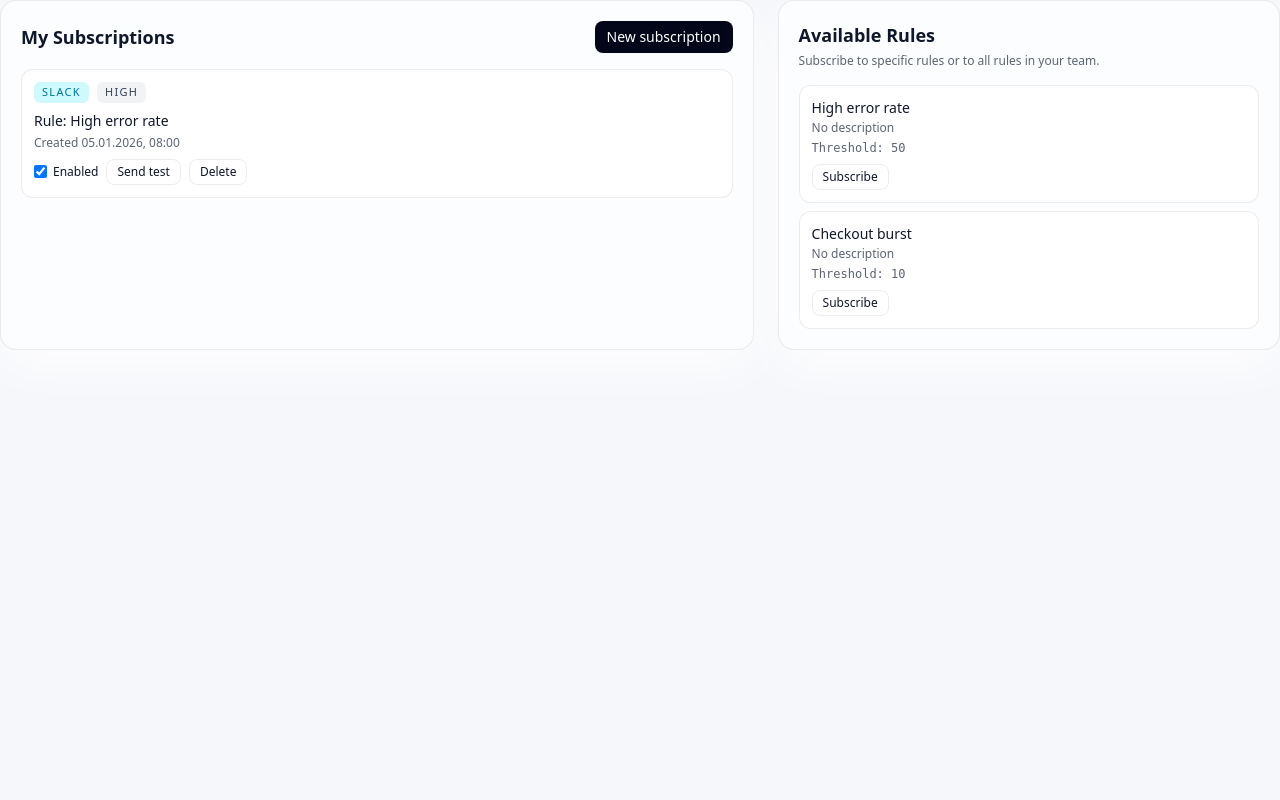
it: delete › keeps the row and shows the API message when the delete is refused
Click the button with aria-label "Delete SLACK subscription" at (218, 172), box [189, 158, 247, 184]
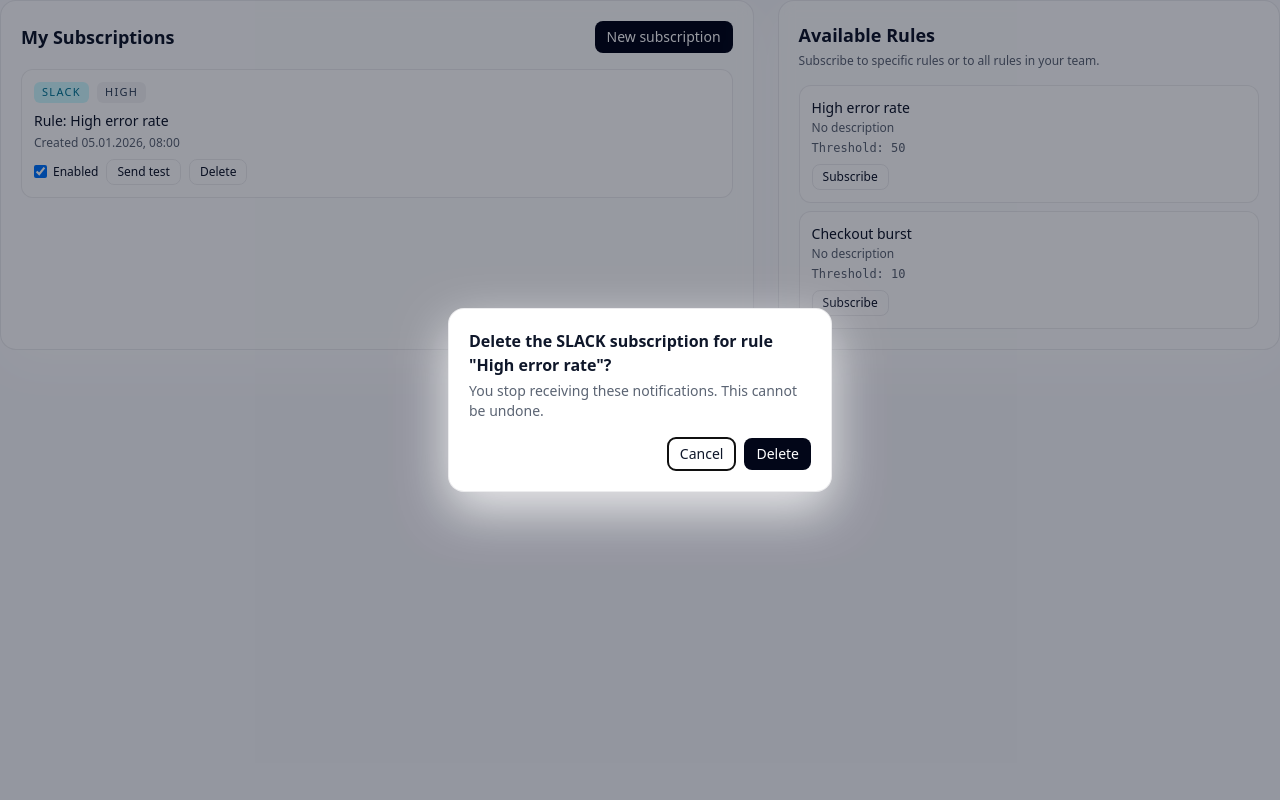
Click the button "Delete" at (778, 454), box [744, 438, 811, 470]
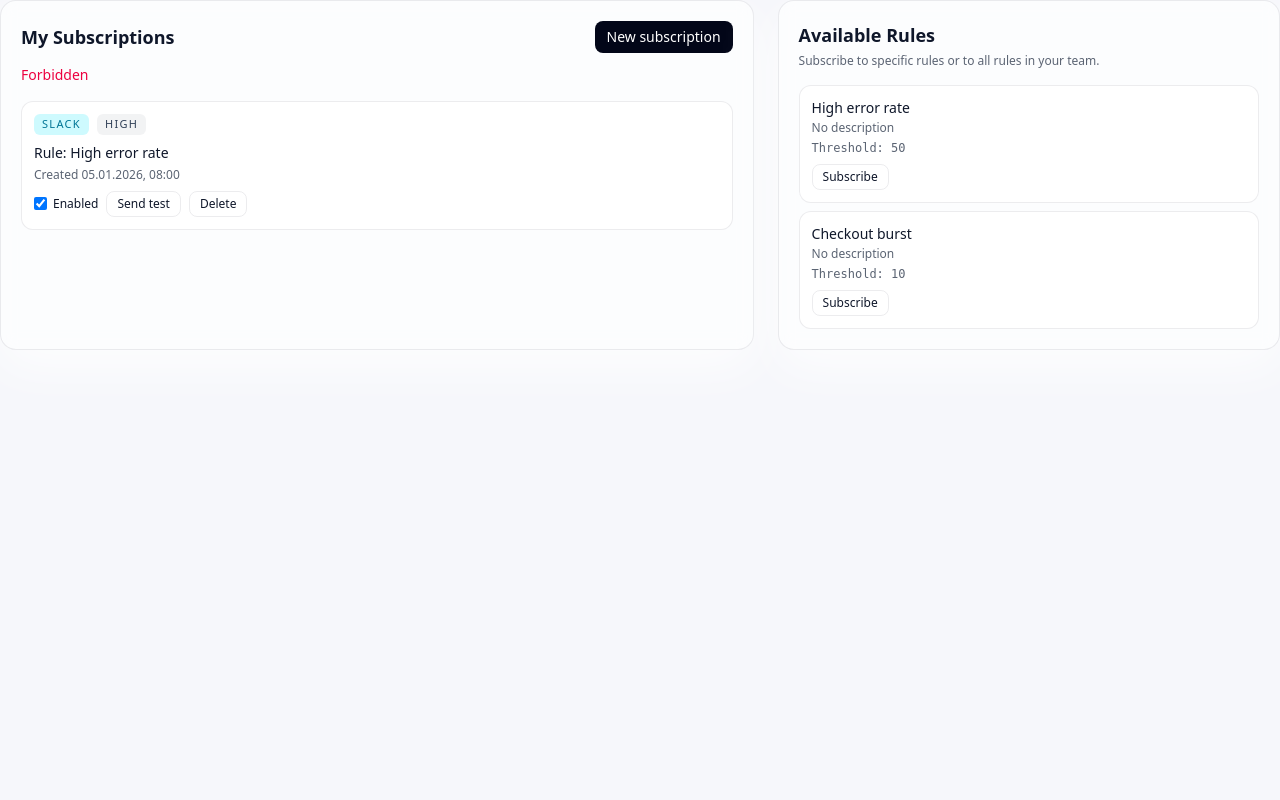
Check: the text "Rule: High error rate" is shown, box [34, 142, 168, 162]
Check: the message reads "Forbidden", box [21, 65, 88, 84]
